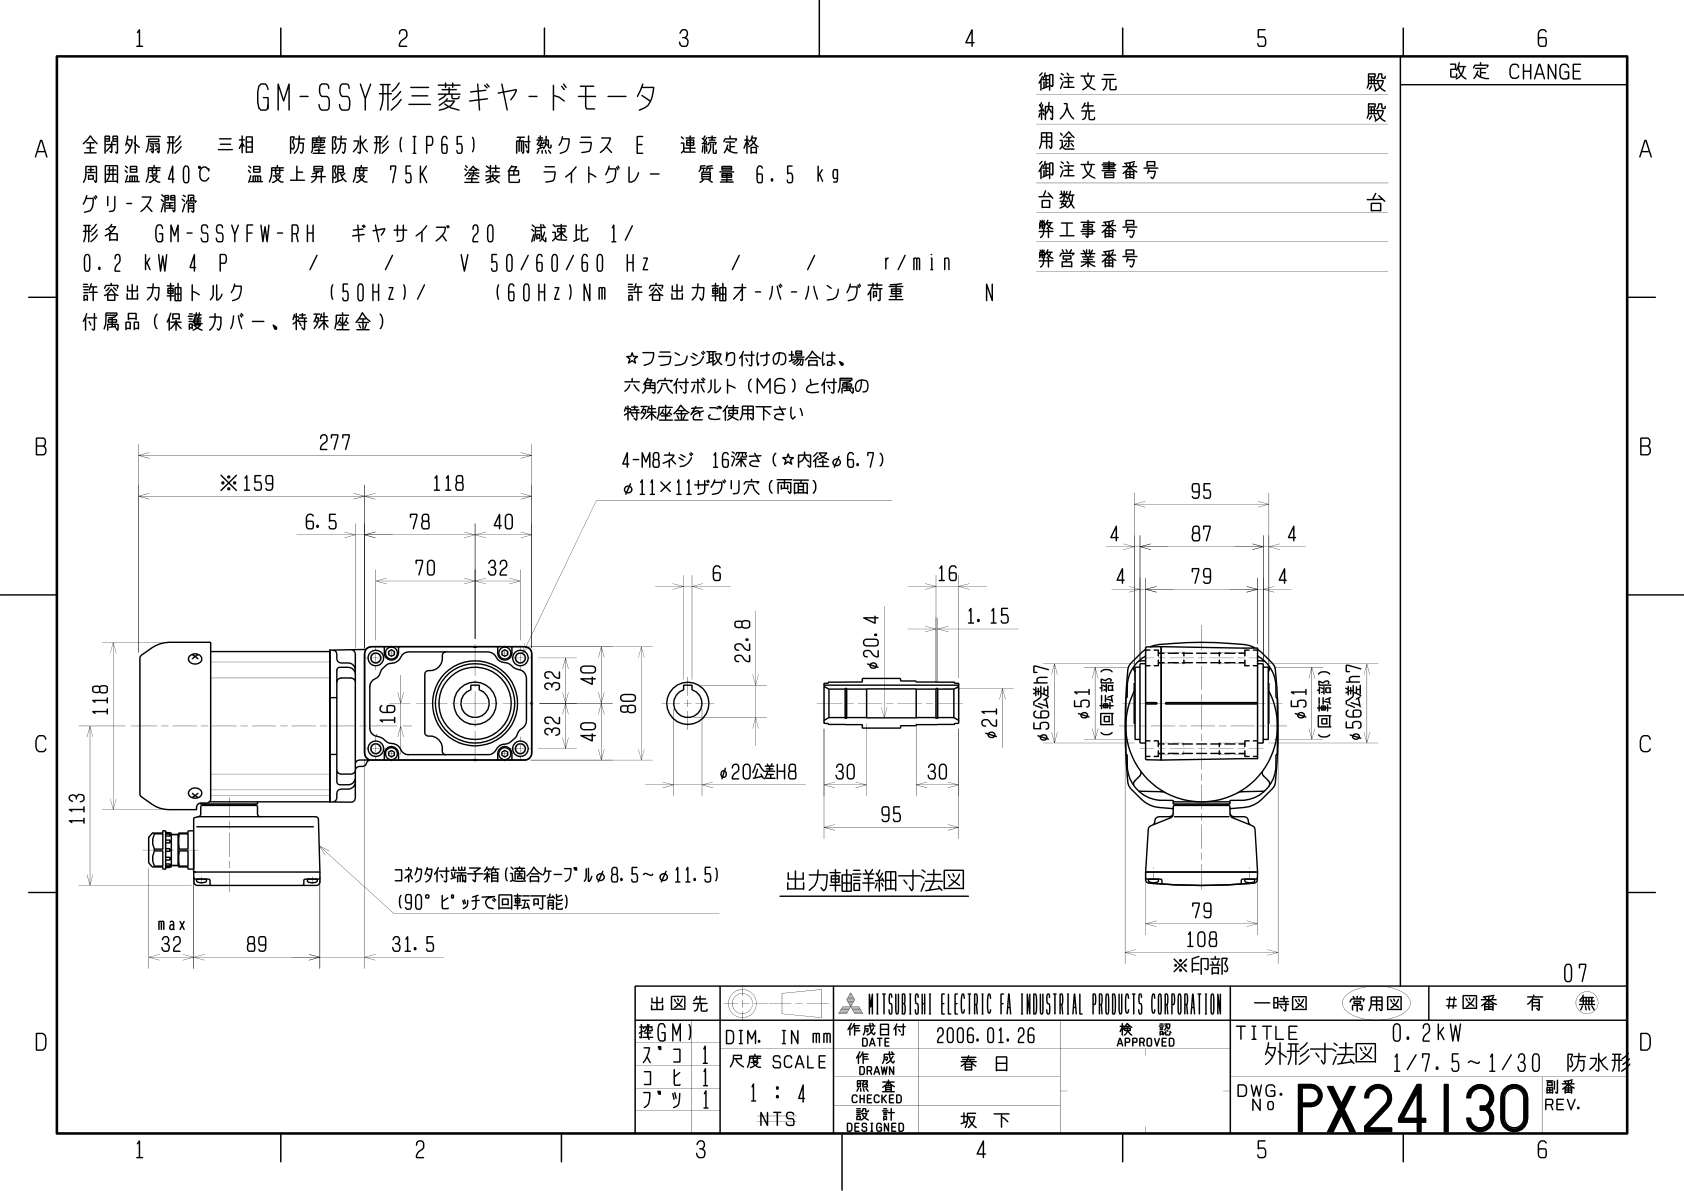GM_SSY_IP65_三相: (1, 1, 1674, 1183)
